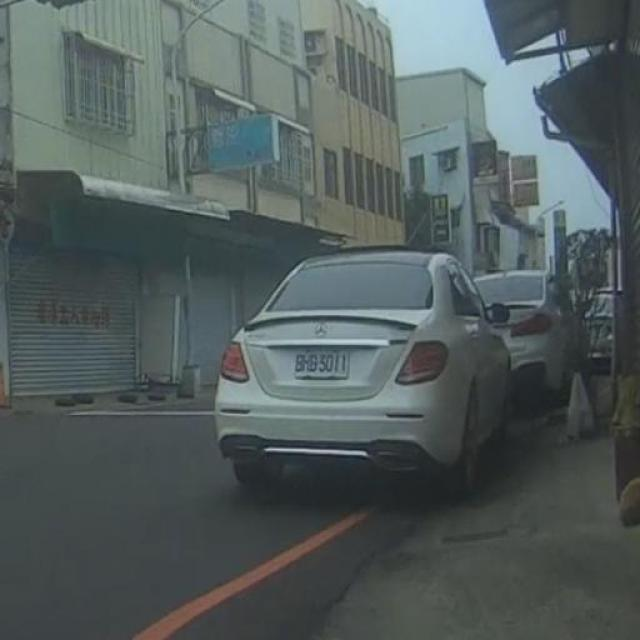illegalparking: (215, 246, 569, 485)
